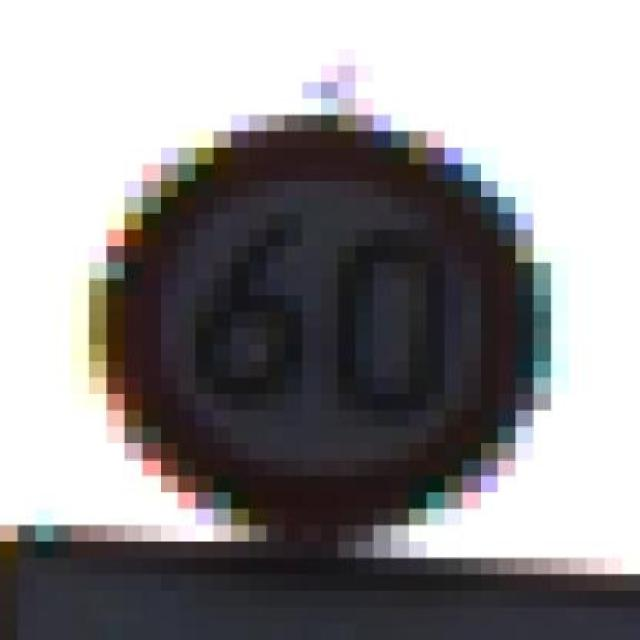forb_speed_over_60: (112, 122, 533, 523)
